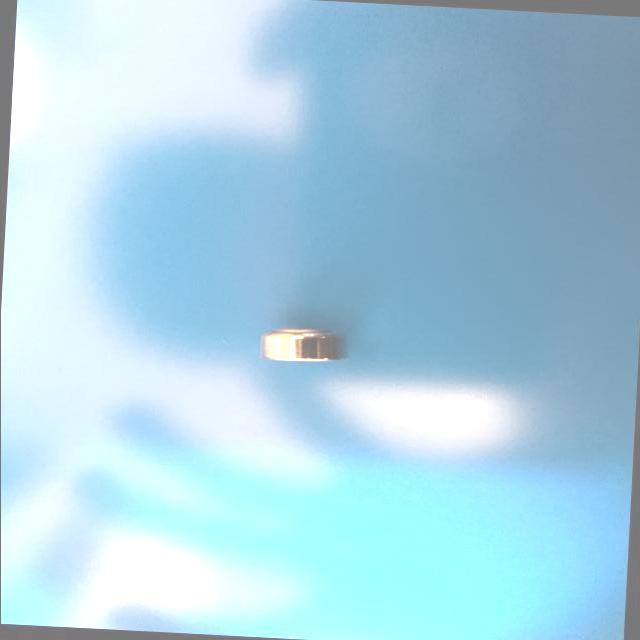COIN: (253, 320, 349, 365)
